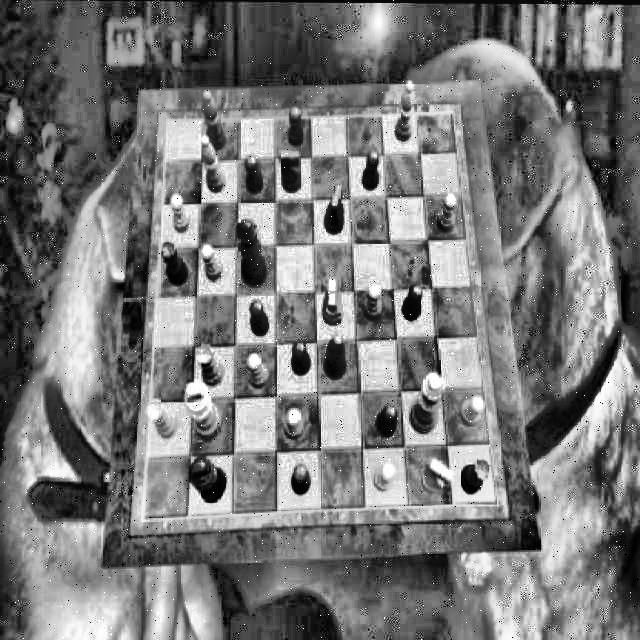black-bishop: (203, 90, 227, 150), (324, 333, 348, 379)
black-king: (189, 456, 227, 502)
black-knight: (325, 185, 345, 234), (278, 149, 300, 192)
black-pawn: (245, 155, 264, 194), (403, 284, 423, 320), (377, 403, 398, 436), (250, 300, 269, 336), (363, 150, 380, 190), (293, 340, 312, 375), (291, 463, 311, 496), (288, 106, 304, 146)
black-queen: (237, 220, 267, 288)
black-rook: (162, 239, 189, 285), (460, 456, 491, 494)
white-bishop: (202, 133, 226, 191), (396, 81, 416, 143)
white-king: (186, 381, 223, 441)
white-knight: (422, 458, 455, 494), (322, 279, 343, 325)
white-pawn: (200, 243, 223, 281), (171, 195, 191, 234), (437, 193, 457, 232), (460, 396, 484, 427), (248, 354, 269, 389), (365, 284, 383, 322), (372, 462, 394, 493), (285, 408, 304, 441)
white-queen: (411, 372, 447, 435)
white-rook: (148, 399, 179, 439), (197, 344, 225, 387)
